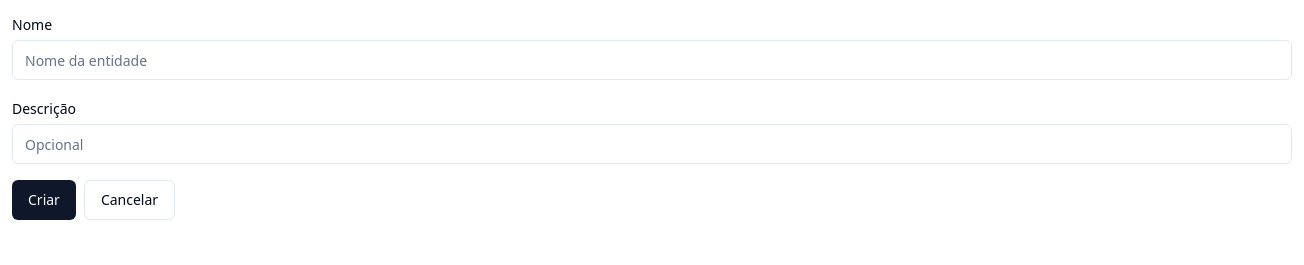
Scenario: CreateEntityForm › shows validation error when name is empty
Click the button "Criar".
click(44, 200)  # box top-left (12, 180), bottom-right (76, 220)
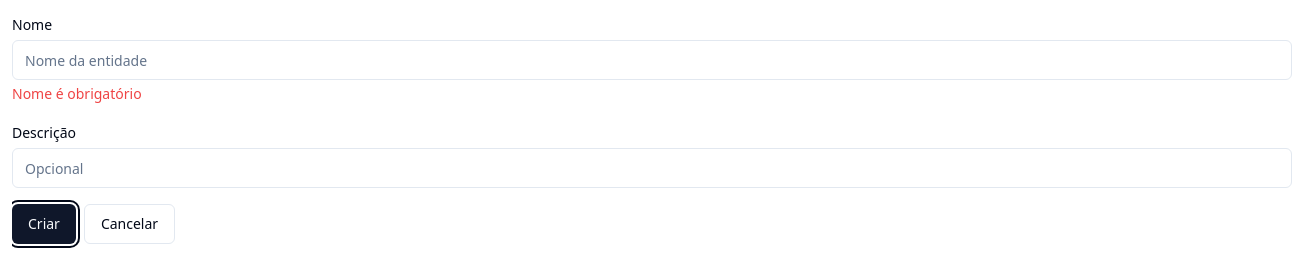
Expected: the text "Nome é obrigatório" is shown, top-left (12, 84), bottom-right (142, 103)
